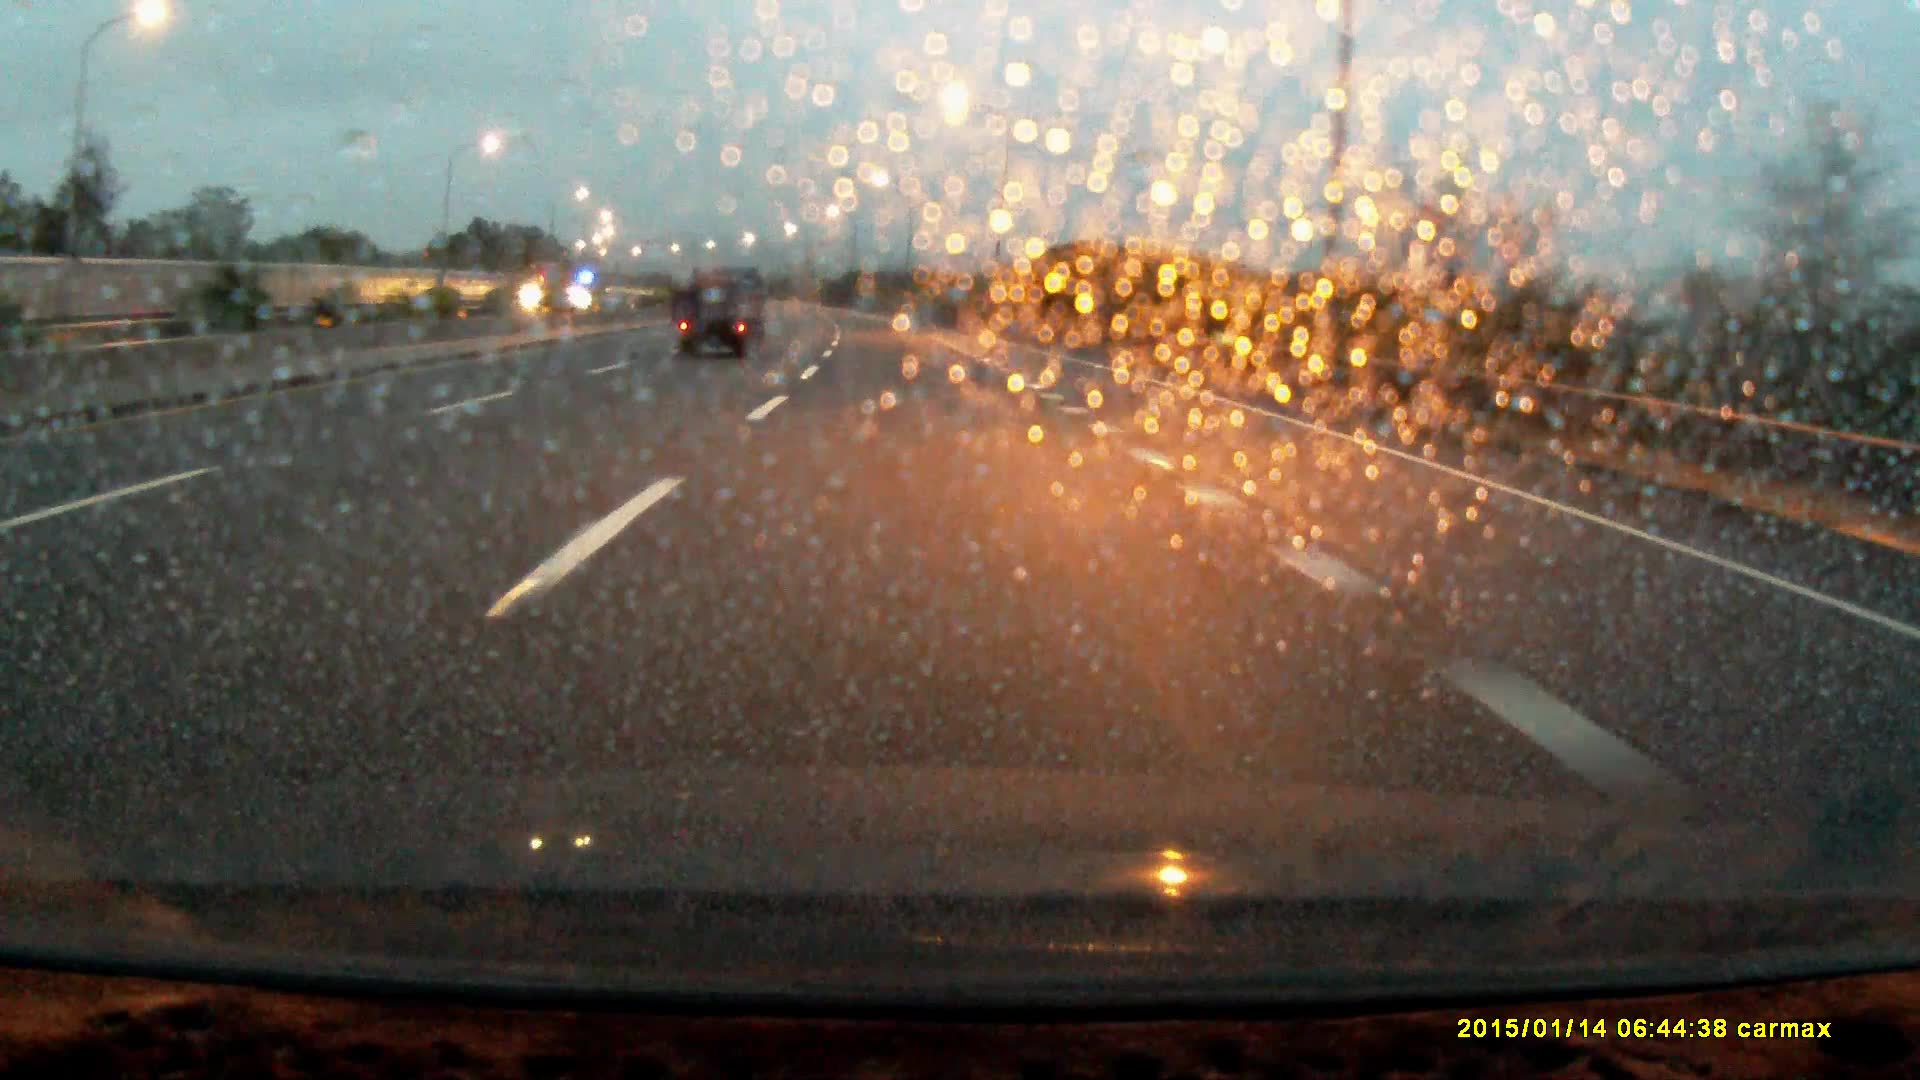vehicle: (678, 265, 764, 361), (517, 262, 575, 313)
